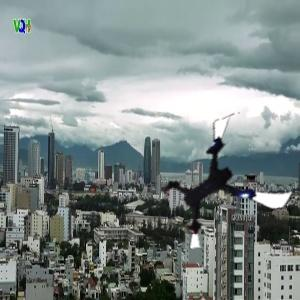drone: (159, 117, 284, 242)
